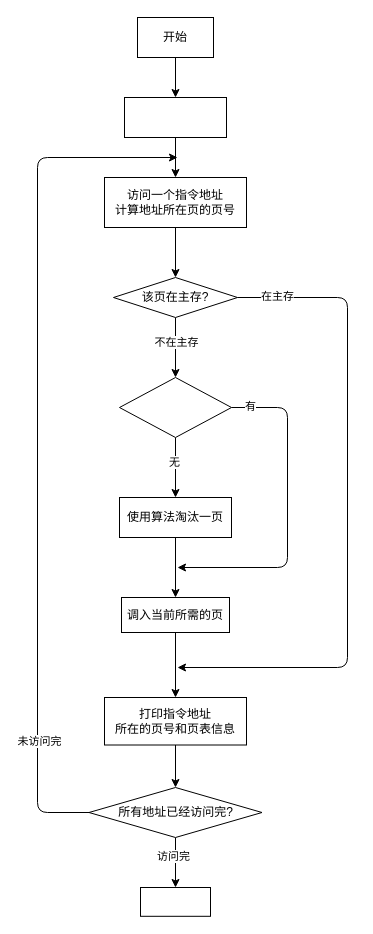
The diagram is 373 pixels wide and 934 high, and some of its shapes have lost their labels. The box of each missing label's shape, as (x1, y1, x2, y2) in pixels:
产生指令地址 初始化页表: (124, 96, 226, 138)
结束: (140, 886, 210, 916)
页表有无 在缓存: (118, 376, 232, 438)
